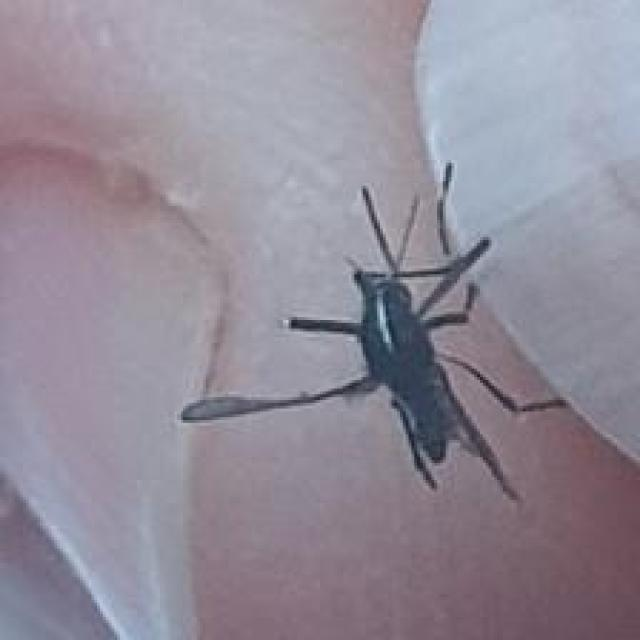Aedes albopictus: (179, 160, 570, 503)
